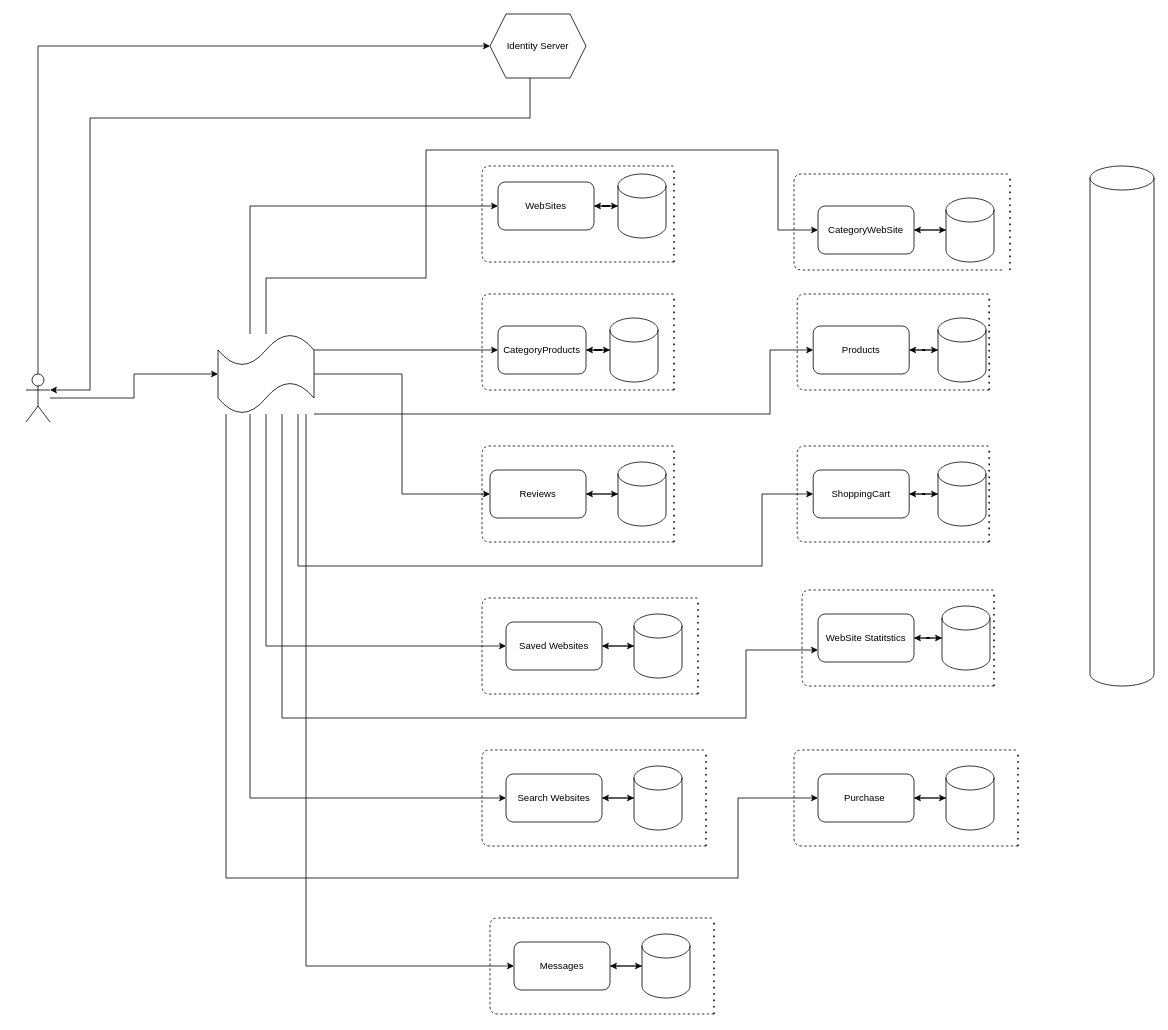
Some shapes in this 1168 by 1030 pixel diagram are drawn without their labels. Here are the shapes that lost their labels. From the top down, the centre of each, then its label:
(x=265, y=373): Api Gateway
(x=37, y=397): MVC Client
(x=1121, y=425): RabbitMQ
